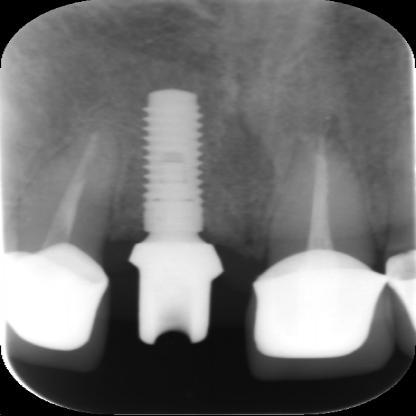ITI: (145, 84, 207, 240)
